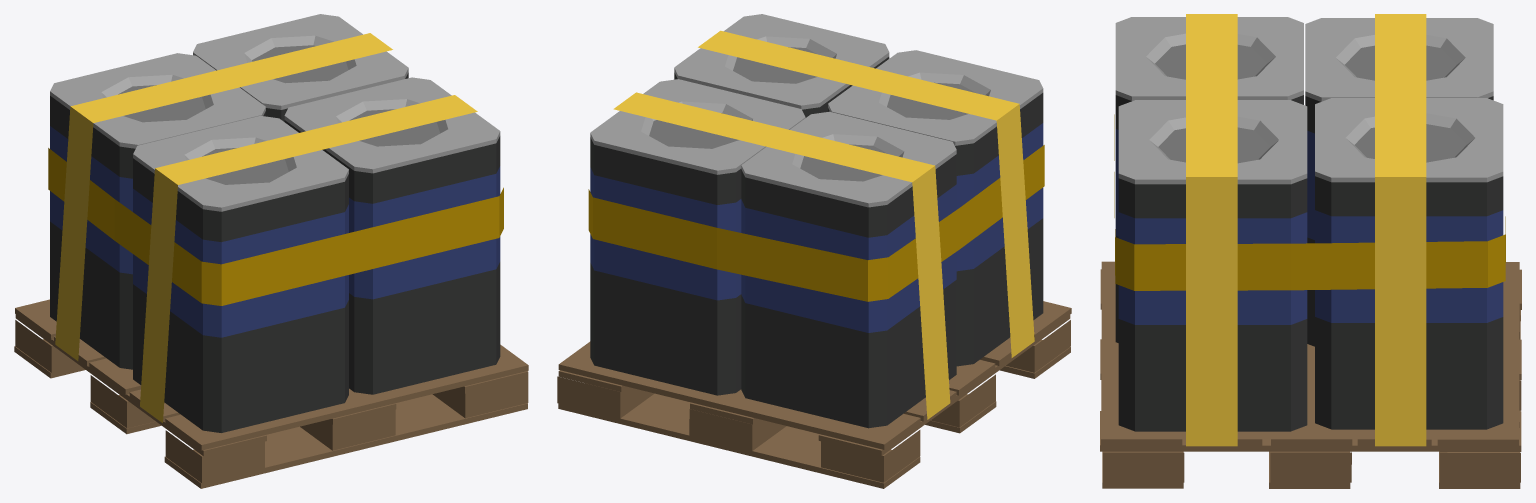
File: PaintPallet.glb
3 views of the same model, side by side, from view 1: azimuth 30°, elevation 25°; view 2: azimuth 150°, elevation 25°; view 3: azimuth 270°, elevation 25° (orthographic). The views are drawn at different scales.
Parts seen in each view (by area): view 1: paintPallet; view 2: paintPallet; view 3: paintPallet.
Part boxes in pixels (x1,y1,x2,y2): paintPallet: [14, 14, 528, 488]; paintPallet: [557, 14, 1071, 488]; paintPallet: [1100, 14, 1521, 488].
Bounding box in the file's own units: 0.8388 × 0.6656 × 0.834.
1 material, 1 textured.
